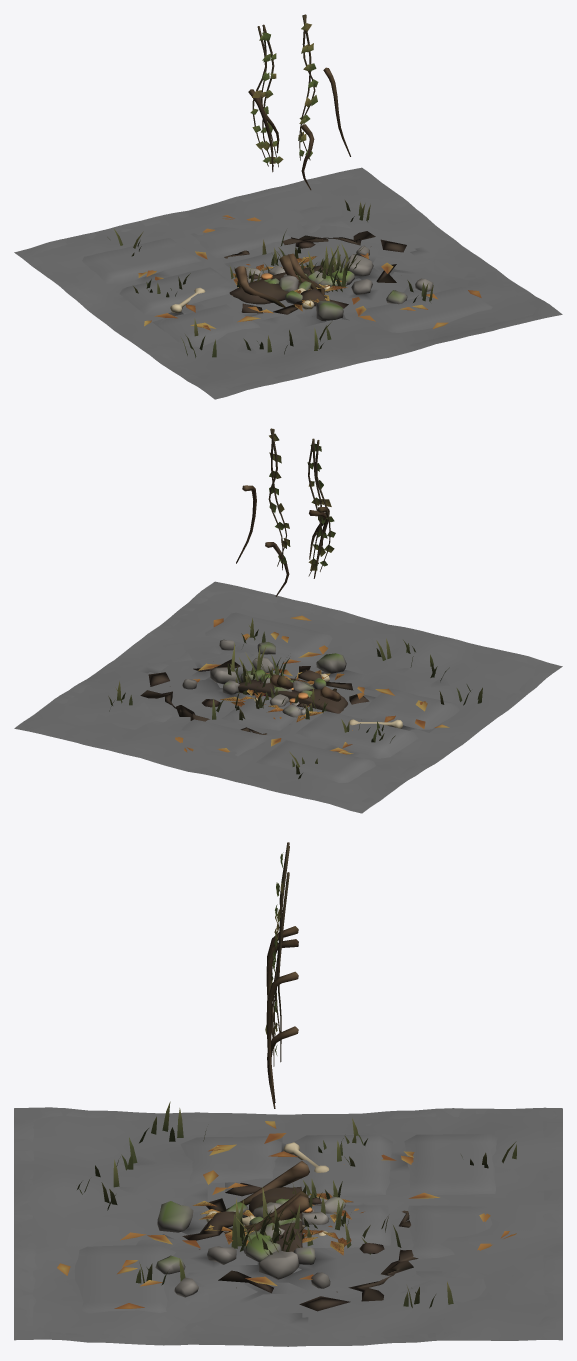
File: bioma_cementerio_alta.glb
3 renders of one model, top to bottom at view 1: azimuth 30°, elevation 25°; view 2: azimuth 150°, elevation 25°; view 3: azimuth 270°, elevation 25°, orthographic. The views are drawn at different scales.
Visible parts, largest first — view 1: piso_d_malla, piso_a_malla, piso_b_malla, piso_c_malla, piso_e_malla, det_muro_hiedra_malla, det_pie_piedras_malla, det_muro_raices_malla, det_pie_raices_malla, det_pie_pasto_malla; view 2: piso_d_malla, piso_a_malla, piso_b_malla, piso_c_malla, piso_e_malla, det_muro_hiedra_malla, det_pie_piedras_malla, det_muro_raices_malla, det_pie_pasto_malla, det_pie_raices_malla; view 3: piso_a_malla, piso_d_malla, piso_b_malla, piso_c_malla, piso_e_malla, det_pie_piedras_malla, det_muro_raices_malla, det_pie_raices_malla, det_muro_hiedra_malla, det_pie_pasto_malla, det_piedritas_malla, det_pie_hojas_malla.
Part boxes in pixels (<box>): piso_d_malla: <box>15,168,558,397</box>; piso_a_malla: <box>14,167,562,399</box>; piso_b_malla: <box>27,174,531,393</box>; piso_c_malla: <box>41,170,558,396</box>; piso_e_malla: <box>103,215,489,357</box>; det_muro_hiedra_malla: <box>250,14,318,167</box>; det_pie_piedras_malla: <box>229,265,354,304</box>; det_muro_raices_malla: <box>248,67,350,190</box>; det_pie_raices_malla: <box>234,253,324,307</box>; det_pie_pasto_malla: <box>293,243,363,291</box>; piso_d_malla: <box>14,582,552,812</box>; piso_a_malla: <box>14,581,562,813</box>; piso_b_malla: <box>27,597,545,807</box>; piso_c_malla: <box>28,583,558,804</box>; piso_e_malla: <box>138,609,493,778</box>; det_muro_hiedra_malla: <box>268,428,335,576</box>; det_pie_piedras_malla: <box>238,669,347,713</box>; det_muro_raices_malla: <box>236,485,329,596</box>; det_pie_pasto_malla: <box>227,643,322,710</box>; det_pie_raices_malla: <box>249,674,340,701</box>; piso_a_malla: <box>14,1108,562,1346</box>; piso_d_malla: <box>14,1107,562,1346</box>; piso_b_malla: <box>14,1108,562,1346</box>; piso_c_malla: <box>14,1107,562,1346</box>; piso_e_malla: <box>57,1101,526,1344</box>; det_pie_piedras_malla: <box>226,1187,302,1262</box>; det_muro_raices_malla: <box>266,926,298,1108</box>; det_pie_raices_malla: <box>223,1161,309,1233</box>; det_muro_hiedra_malla: <box>265,842,289,1066</box>; det_pie_pasto_malla: <box>231,1187,300,1252</box>; det_piedritas_malla: <box>249,1197,345,1237</box>; det_pie_hojas_malla: <box>192,1201,351,1245</box>.
Size of the model in its own units: 2 by 1.53 by 2.
